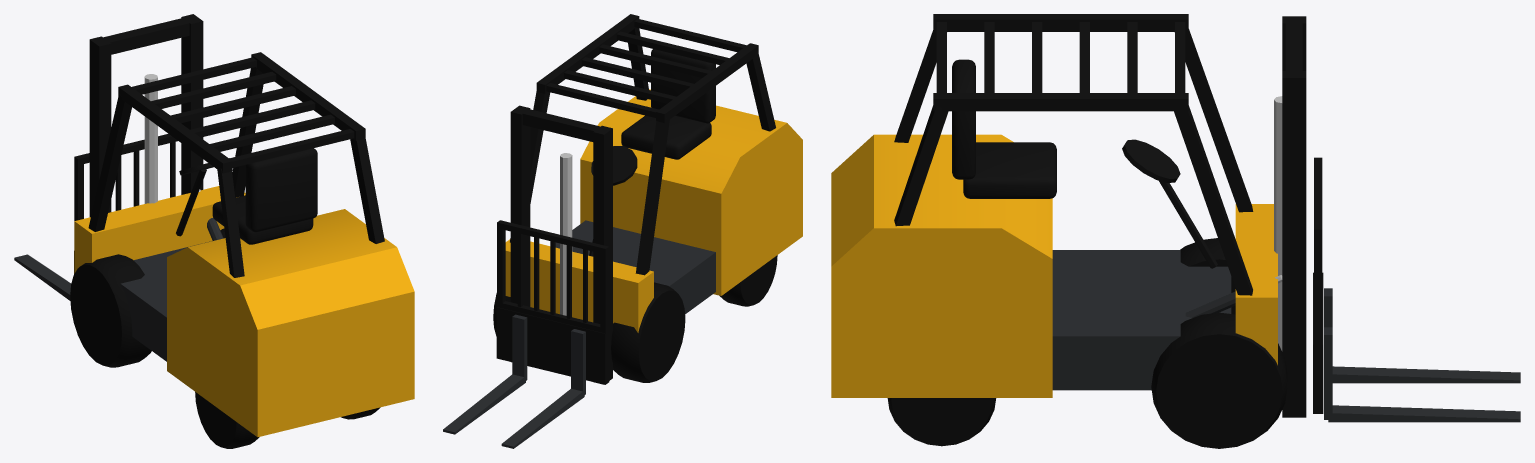
The model's file is plant.lifting.forklift.glb.
3 views of the same model, side by side, from view 1: azimuth 30°, elevation 25°; view 2: azimuth 150°, elevation 25°; view 3: azimuth 270°, elevation 25° (orthographic). The views are drawn at different scales.
Visible parts, largest first — view 1: body__plant_yellow, body__plastic_black, wheels__rubber, mast__plastic_black, body__steel_dark, carriage__plastic_black, mast__steel_stainless, carriage__steel_dark; view 2: body__plant_yellow, body__plastic_black, carriage__plastic_black, mast__plastic_black, wheels__rubber, body__steel_dark, carriage__steel_dark, mast__steel_stainless; view 3: body__plant_yellow, body__plastic_black, body__steel_dark, wheels__rubber, mast__plastic_black, carriage__steel_dark, carriage__plastic_black, mast__steel_stainless.
Part boxes in pixels (x1=…): body__plant_yellow: x1=74, y1=186, x2=414, y2=437; body__plastic_black: x1=88, y1=52, x2=384, y2=277; wheels__rubber: x1=70, y1=228, x2=380, y2=448; mast__plastic_black: x1=89, y1=14, x2=203, y2=217; body__steel_dark: x1=121, y1=241, x2=212, y2=361; carriage__plastic_black: x1=74, y1=133, x2=177, y2=273; mast__steel_stainless: x1=144, y1=74, x2=200, y2=203; carriage__steel_dark: x1=14, y1=254, x2=70, y2=300; body__plant_yellow: x1=505, y1=89, x2=802, y2=332; body__plastic_black: x1=510, y1=14, x2=775, y2=275; carriage__plastic_black: x1=496, y1=220, x2=609, y2=384; mast__plastic_black: x1=510, y1=105, x2=612, y2=384; wheels__rubber: x1=493, y1=255, x2=777, y2=382; body__steel_dark: x1=555, y1=220, x2=715, y2=314; carriage__steel_dark: x1=443, y1=314, x2=585, y2=448; mast__steel_stainless: x1=560, y1=153, x2=572, y2=315; body__plant_yellow: x1=831, y1=134, x2=1277, y2=397; body__plastic_black: x1=894, y1=14, x2=1253, y2=295; body__steel_dark: x1=1052, y1=250, x2=1231, y2=390; wheels__rubber: x1=887, y1=238, x2=1287, y2=448; mast__plastic_black: x1=1282, y1=16, x2=1306, y2=417; carriage__steel_dark: x1=1324, y1=288, x2=1520, y2=422; carriage__plastic_black: x1=1313, y1=157, x2=1323, y2=413; mast__steel_stainless: x1=1274, y1=96, x2=1282, y2=351.
Size of the model in its own units: 1.34 by 2.32 by 4.05.
